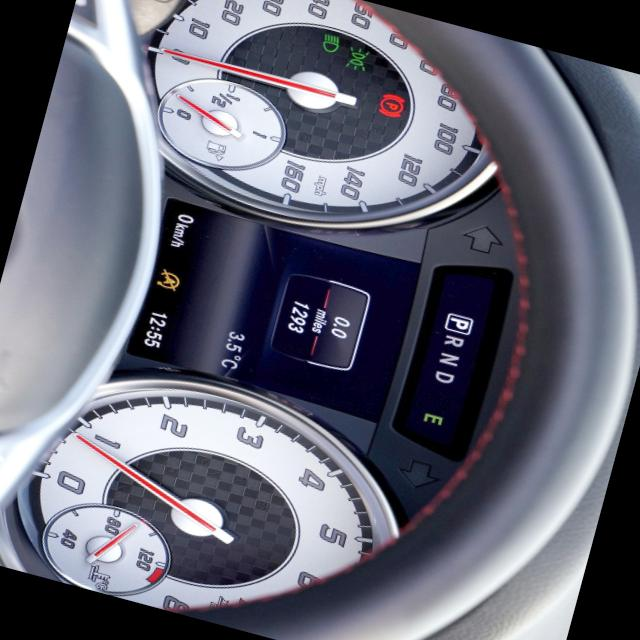kontrolka: (364, 86, 412, 126), (337, 41, 377, 78), (312, 27, 345, 59)
